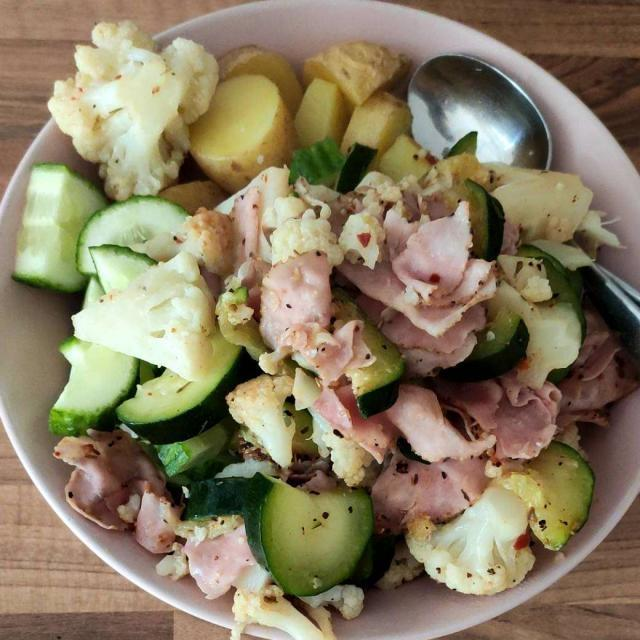cauliflower: (60, 30, 596, 638)
cucumber: (10, 131, 388, 608)
ham: (87, 224, 614, 603)
potatoes: (191, 53, 425, 213)
zucchini: (79, 146, 596, 582)
